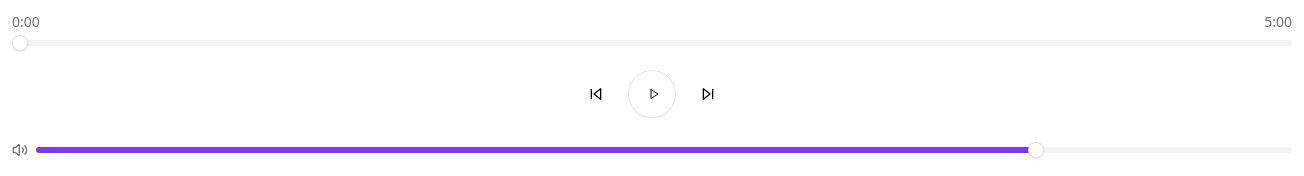
Test: AudiobookPlayer › advances the elapsed time while playing
Click the 2nd button named "Play" at (652, 94), box [628, 70, 676, 118]
Wait 1000 ms
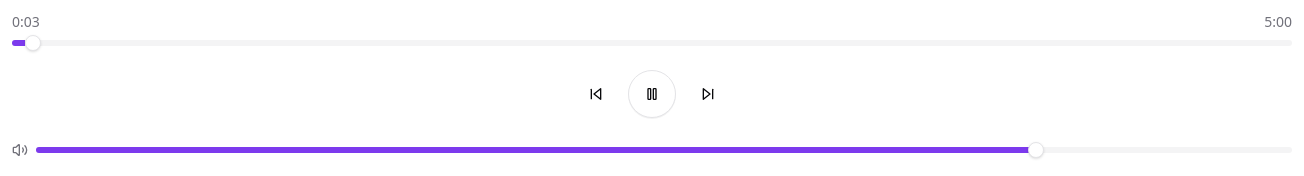
Result: the text "0:03" is shown at [12, 12, 40, 32]
